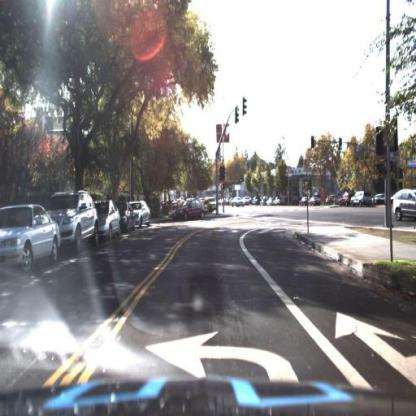car: (1, 202, 64, 275), (61, 188, 102, 254), (170, 194, 212, 226), (100, 199, 123, 243), (393, 189, 416, 224), (131, 200, 156, 229), (120, 199, 135, 235), (351, 190, 373, 209), (336, 191, 357, 209), (351, 191, 373, 207), (228, 195, 248, 211), (202, 194, 218, 212), (373, 192, 392, 206)
